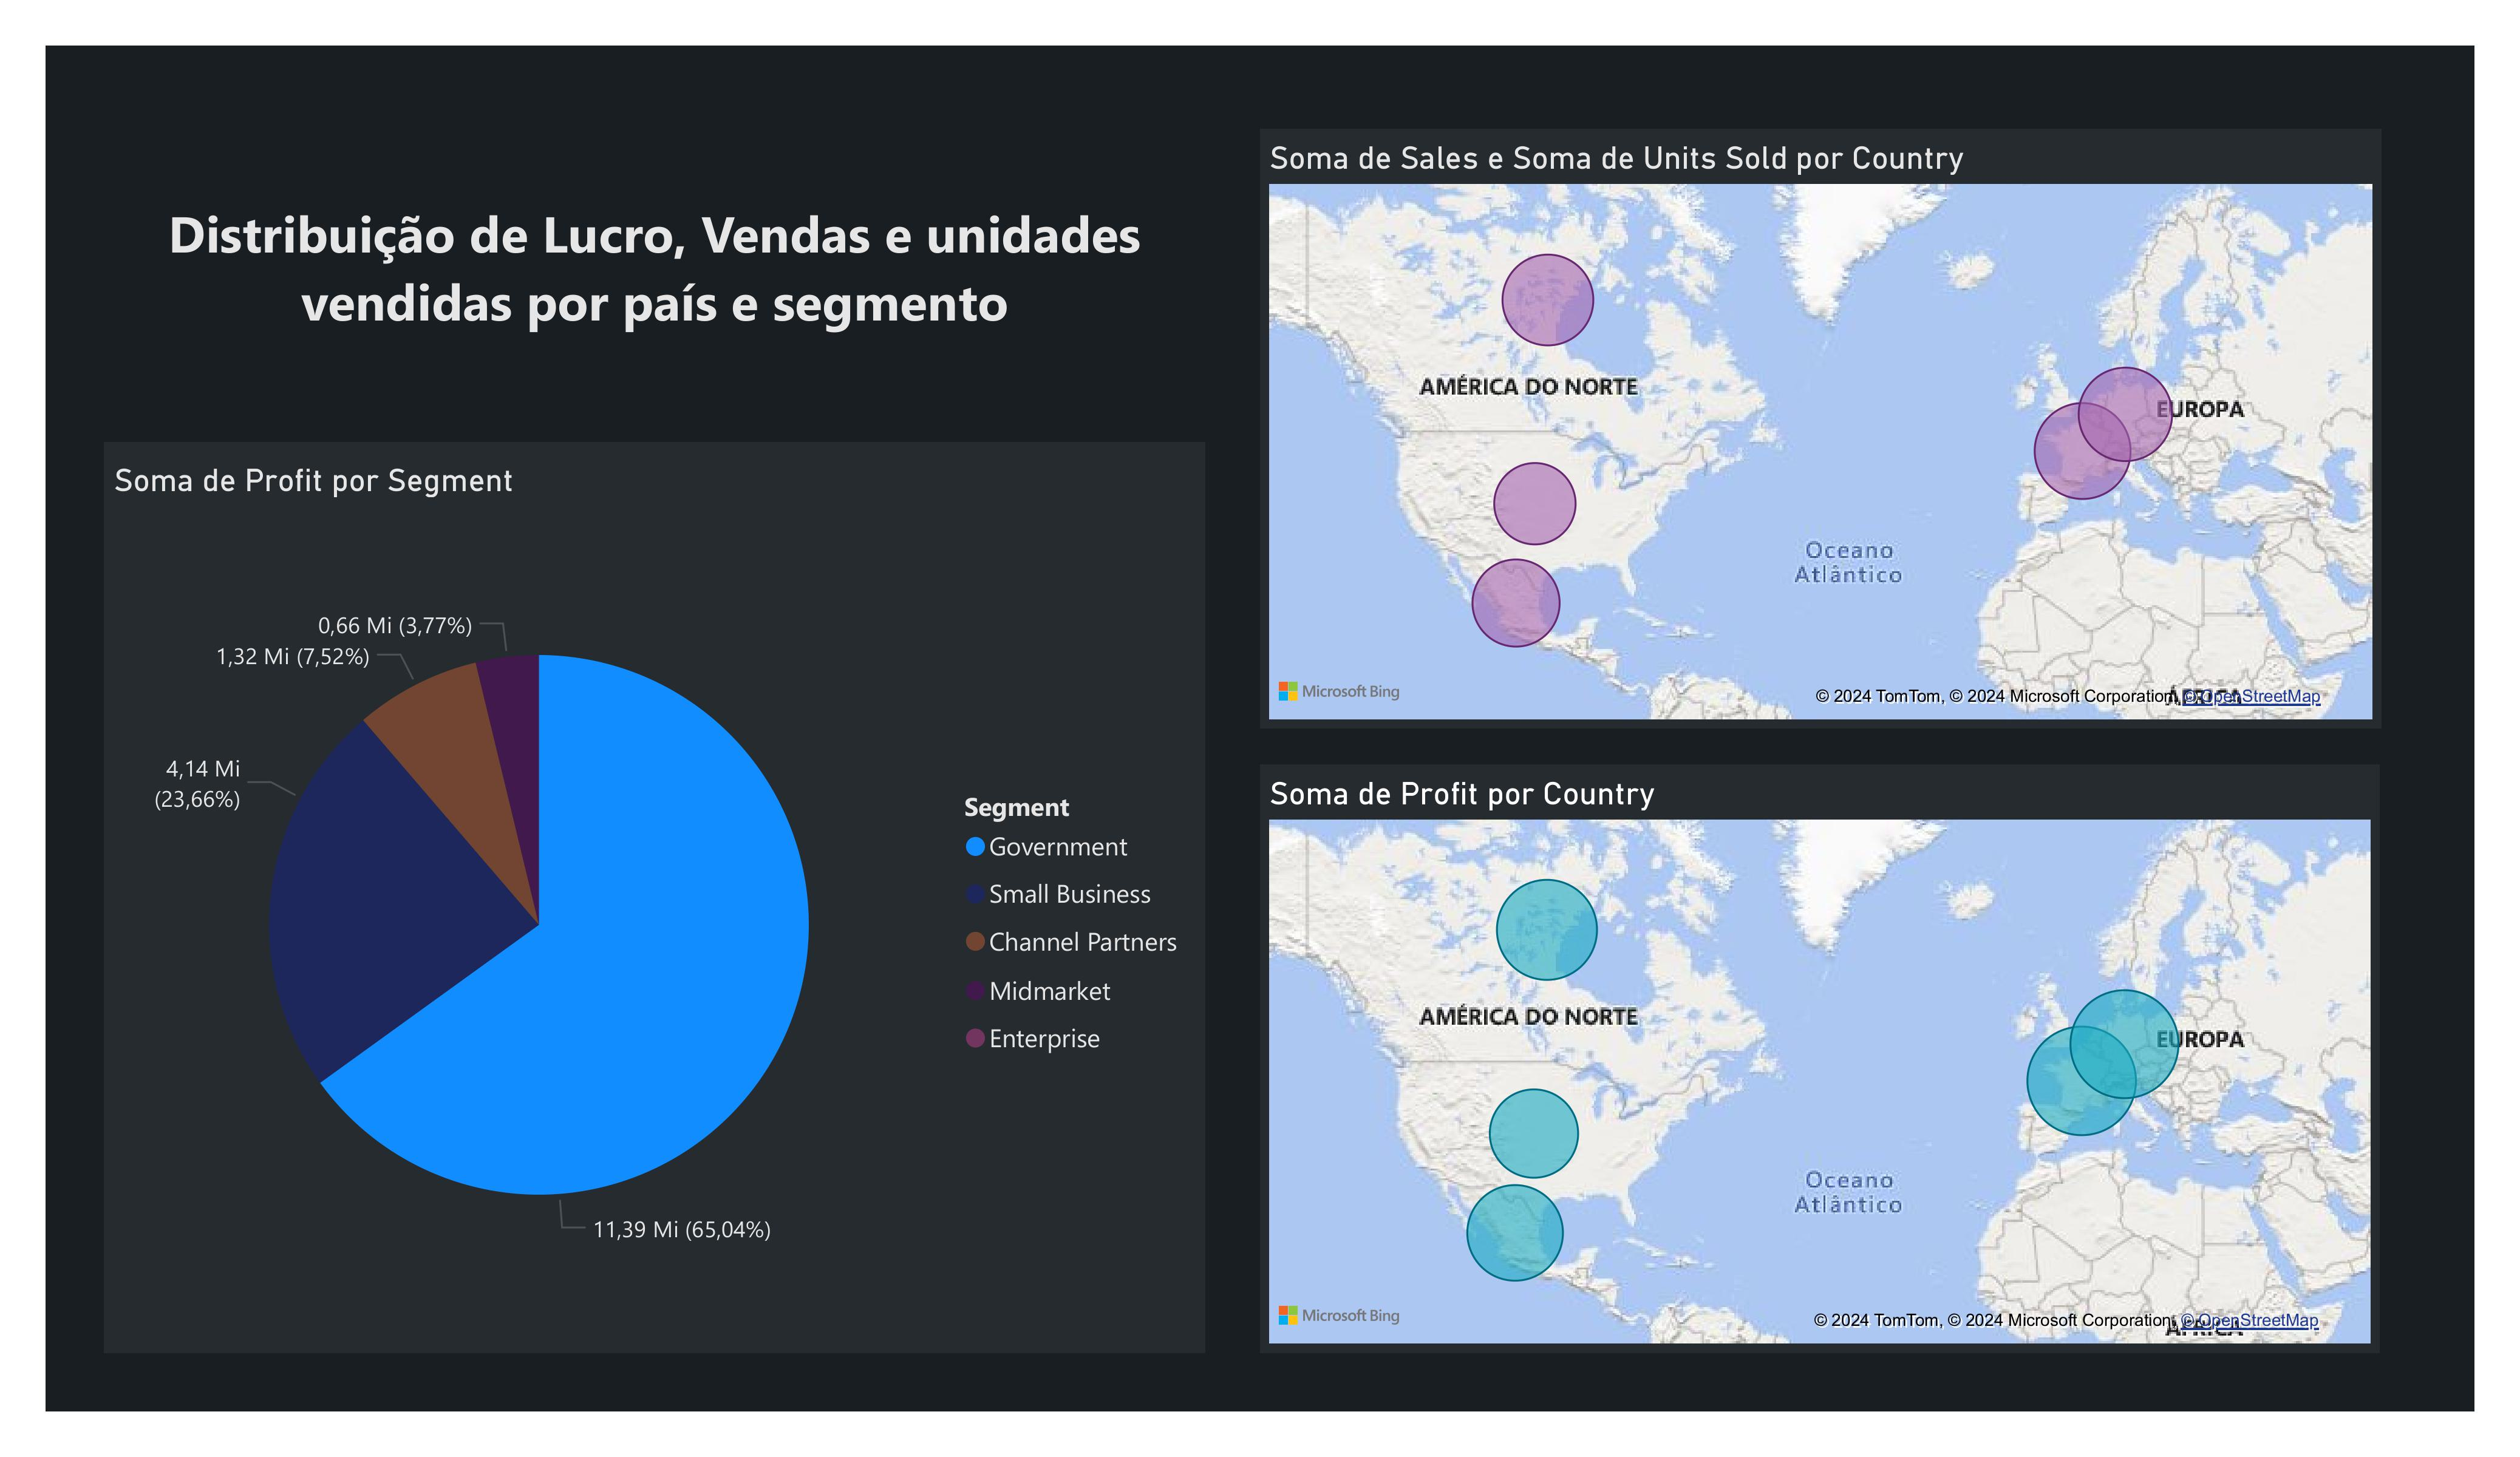

What the dashboard file says about the page in this screenshot:
{"tool":"powerbi","page":{"name":"Página 3","canvas":[1280,720],"ordinal":2},"visuals":[{"type":"pieChart","fields":{"Y":["Sum(financials.Profit)"],"Category":["financials.Segment"]},"box":[30.7,209,580.4,480.3],"z":0},{"type":"textbox","box":[31,75,580,89],"z":1000},{"type":"map","fields":{"Category":["financials.Country"],"Size":["Sum(financials. Sales)"]},"box":[640,44,591,316],"z":1001},{"type":"map","fields":{"Category":["financials.Country"],"Size":["Sum(financials.Profit)"]},"box":[640,379,590,310],"z":1002}]}

Visuals, with their boxes in screenshot pixels (x1, y1, x2, y2):
pieChart - Sum(financials.Profit) x financials.Segment: <region>104, 442, 1205, 1353</region>
textbox: <region>104, 188, 1205, 357</region>
map - financials.Country x Sum(financials. Sales): <region>1260, 129, 2382, 728</region>
map - financials.Country x Sum(financials.Profit): <region>1260, 764, 2380, 1353</region>
